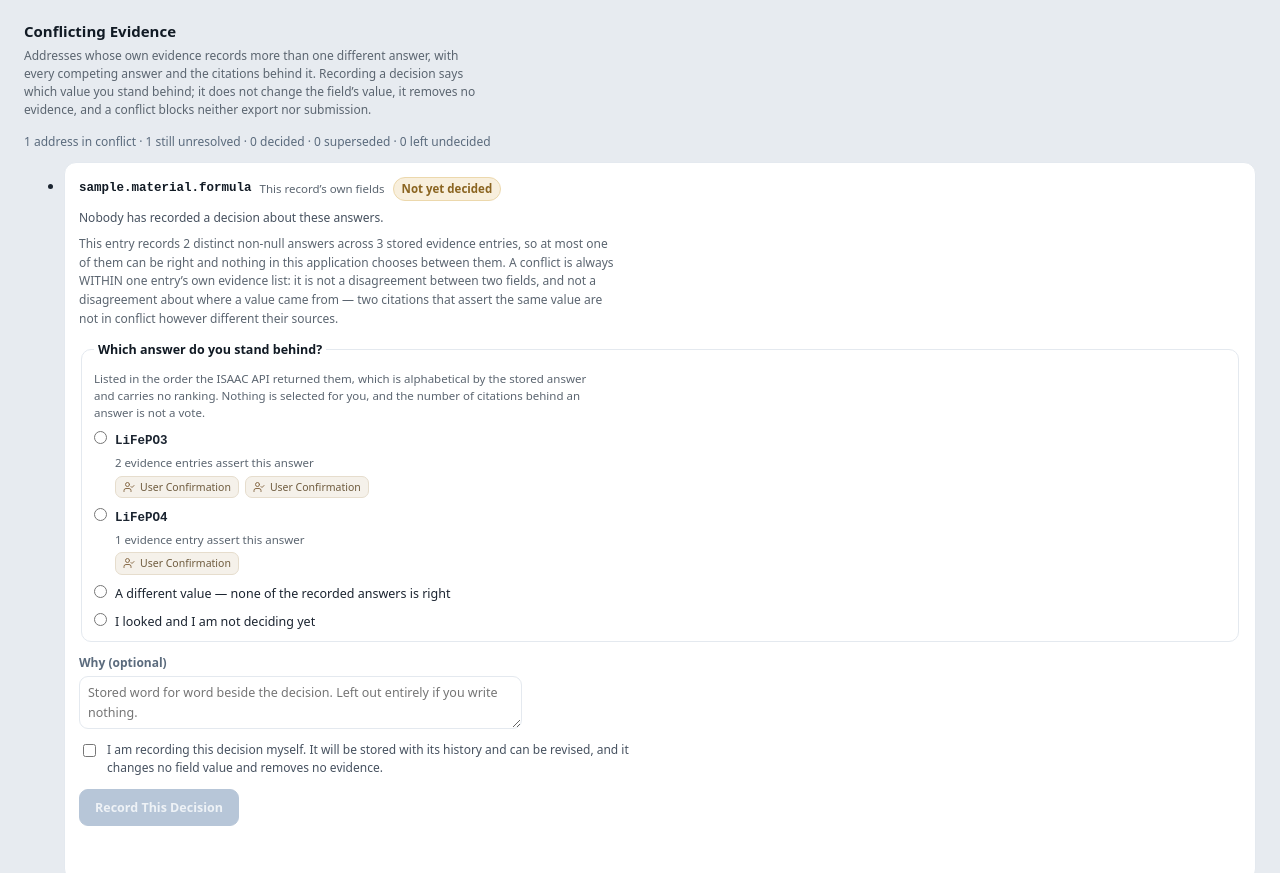
Test: deferring › warns BEFORE the act that deferring does not clear the conflict
Click the radio button labelled "I looked and I am not deciding yet".
click(100, 619)  # box [94, 613, 107, 626]
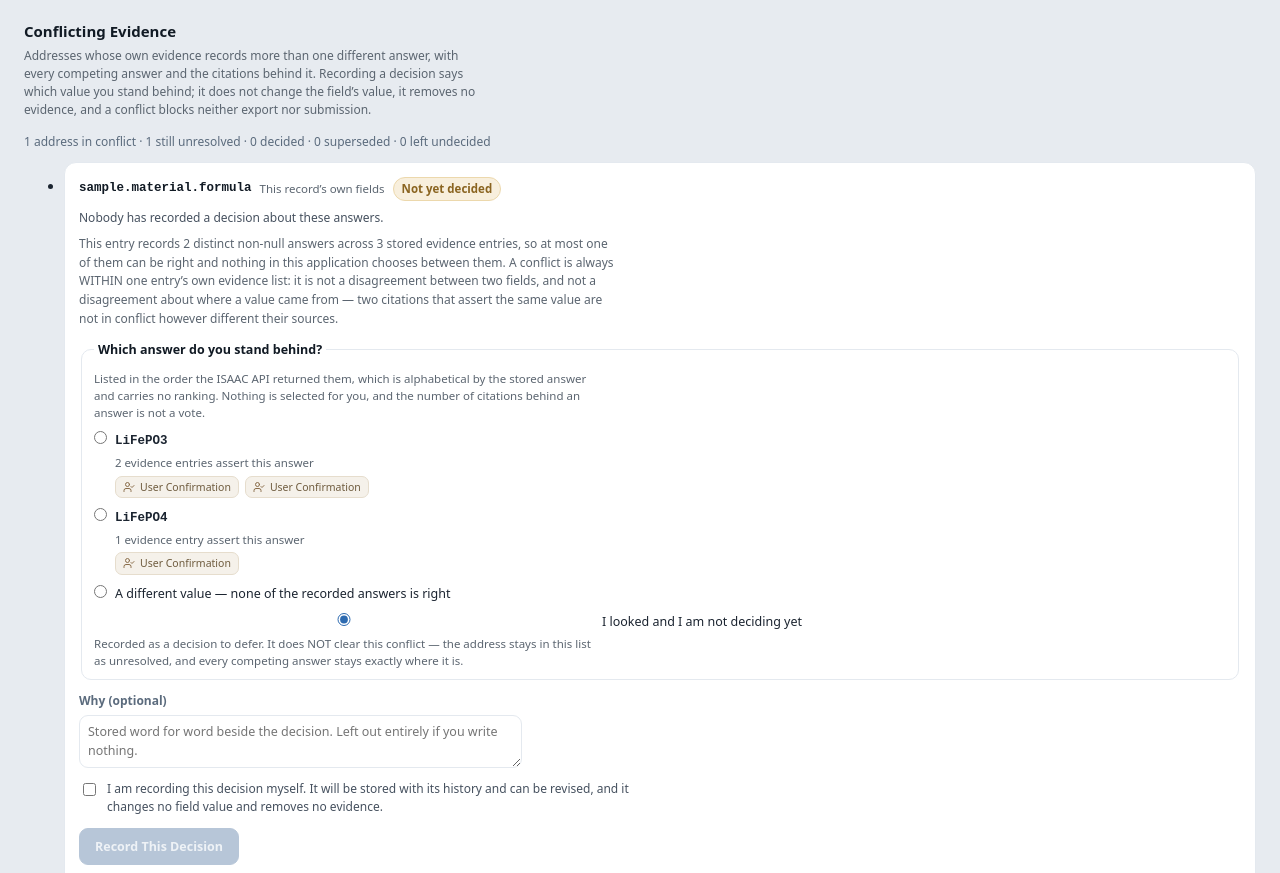
Check: the text "It does NOT clear this conflict" is shown, box [94, 636, 591, 668]
